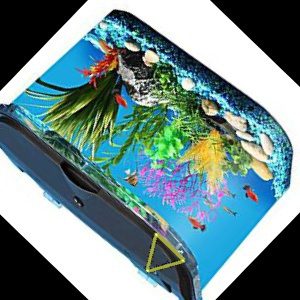triangle: (142, 230, 186, 274)
